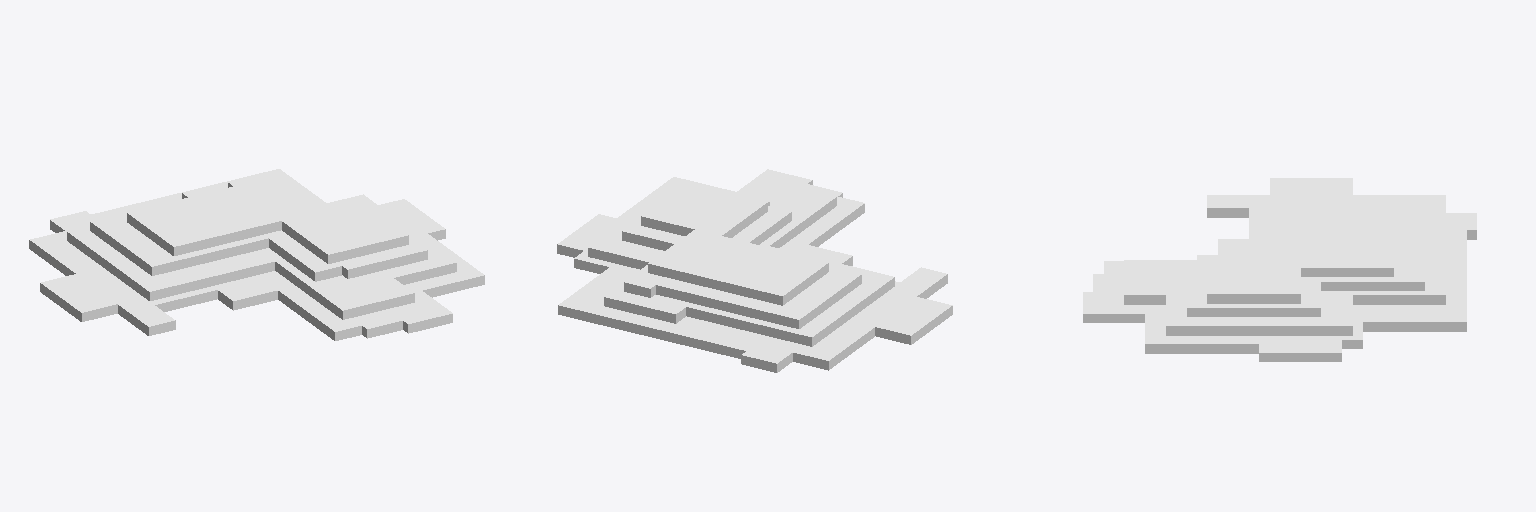
File: gorka2.obj
3 renders of one model, left to right at view 1: azimuth 30°, elevation 25°; view 2: azimuth 150°, elevation 25°; view 3: azimuth 270°, elevation 25°, orthographic.
Visible parts, largest first — view 1: object 1; view 2: object 1; view 3: object 1.
Boxes of the visible parts, x1,y1,x2,y2 form: object 1: [29, 169, 484, 340]; object 1: [557, 169, 952, 372]; object 1: [1083, 178, 1476, 361].
Size of the model in its own units: 4 by 0.4 by 3.8.